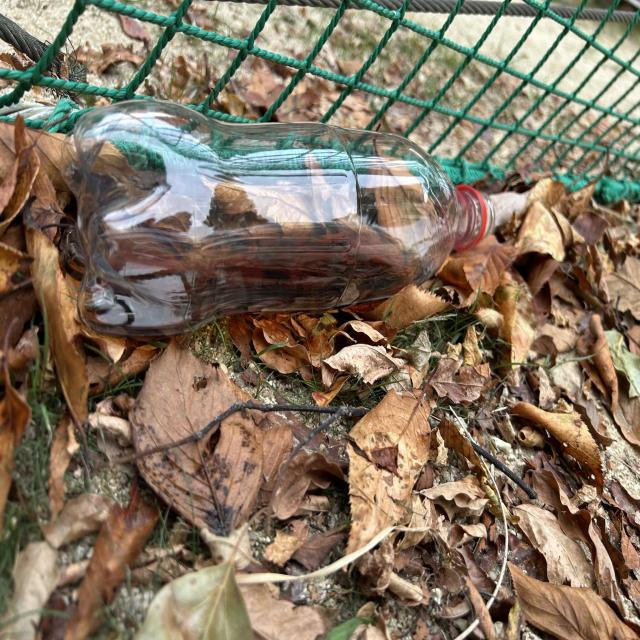low: (63, 101, 498, 337)
